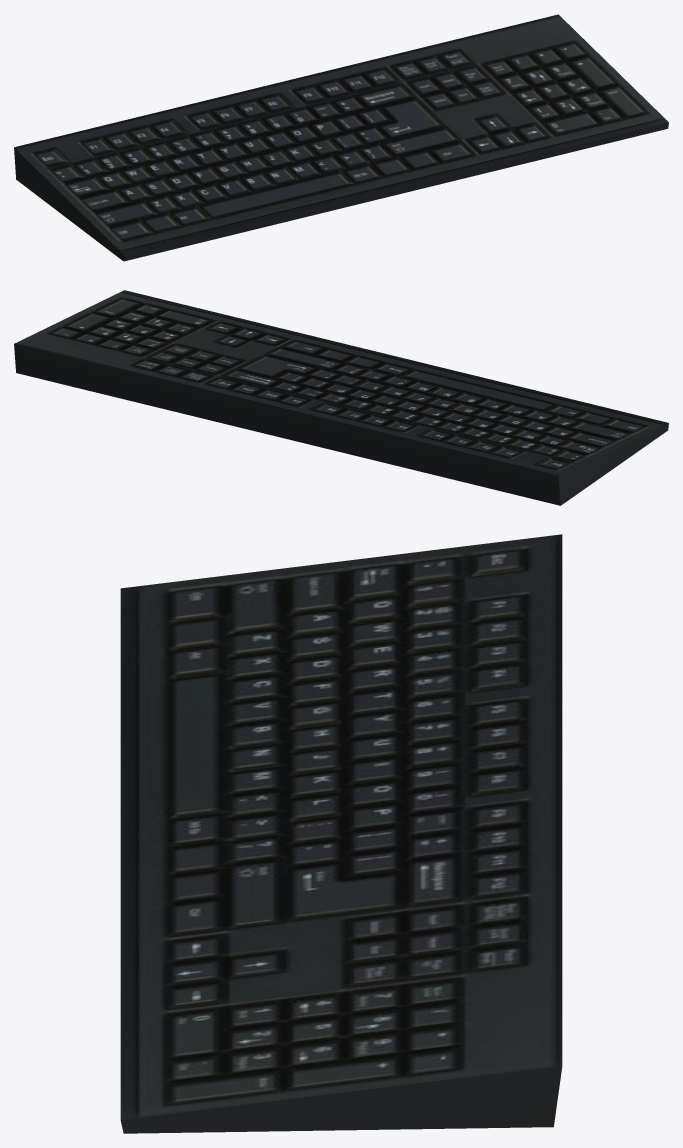
Rendered from BLACK_KEYBOARD.fbx.
The picture shows the model from 3 angles, top to bottom: view 1: azimuth 30°, elevation 25°; view 2: azimuth 150°, elevation 25°; view 3: azimuth 270°, elevation 25°; orthographic projection. The views are drawn at different scales.
Visible parts, largest first — view 1: BLACK_KEYBOARD; view 2: BLACK_KEYBOARD; view 3: BLACK_KEYBOARD.
Part boxes in pixels (left/top/right/bottom): BLACK_KEYBOARD: left=14, top=14, right=668, bottom=261; BLACK_KEYBOARD: left=14, top=290, right=668, bottom=505; BLACK_KEYBOARD: left=120, top=534, right=562, bottom=1133.
Size of the model in its own units: 51.87 by 3.09 by 18.22.
